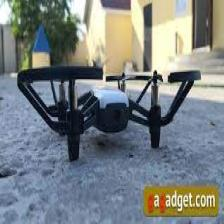drone: (15, 68, 204, 150)
